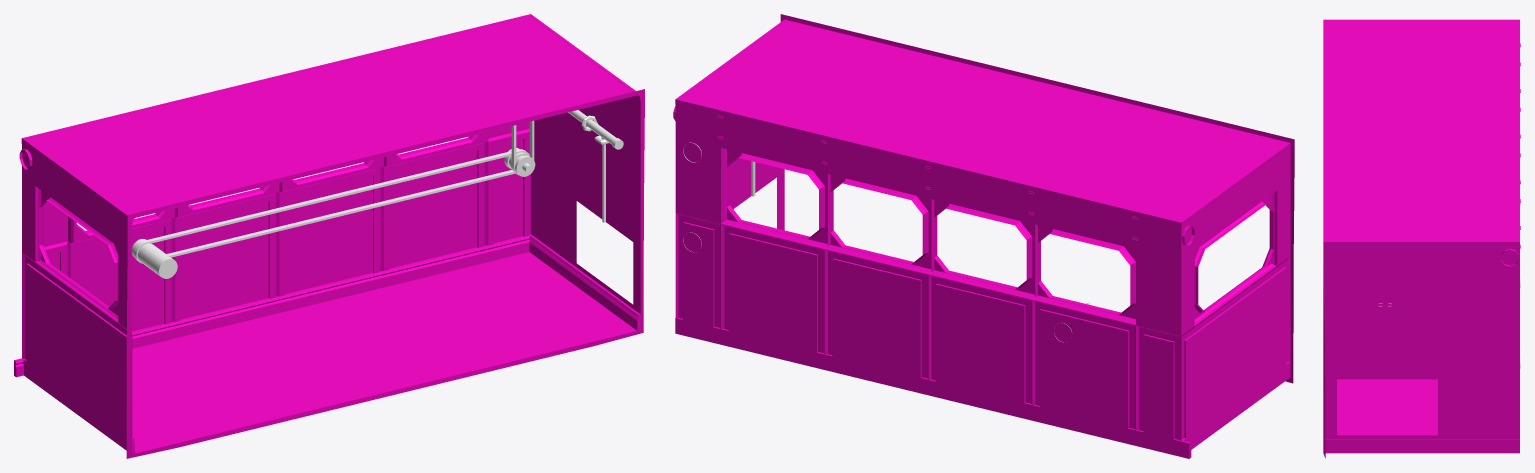
The model's file is DiningRoom2.fbx.
3 views of the same model, side by side, from view 1: azimuth 30°, elevation 25°; view 2: azimuth 150°, elevation 25°; view 3: azimuth 270°, elevation 25° (orthographic). The views are drawn at different scales.
Visible parts, largest first — view 1: DiningRoom, Contraption; view 2: DiningRoom; view 3: DiningRoom.
Boxes of the visible parts, bbox=[...] form: DiningRoom: bbox=[14, 14, 644, 458]; Contraption: bbox=[131, 110, 623, 278]; DiningRoom: bbox=[673, 14, 1294, 458]; DiningRoom: bbox=[1323, 19, 1520, 458].
Bounding box in the file's own units: 2740 × 1230 × 1005.
